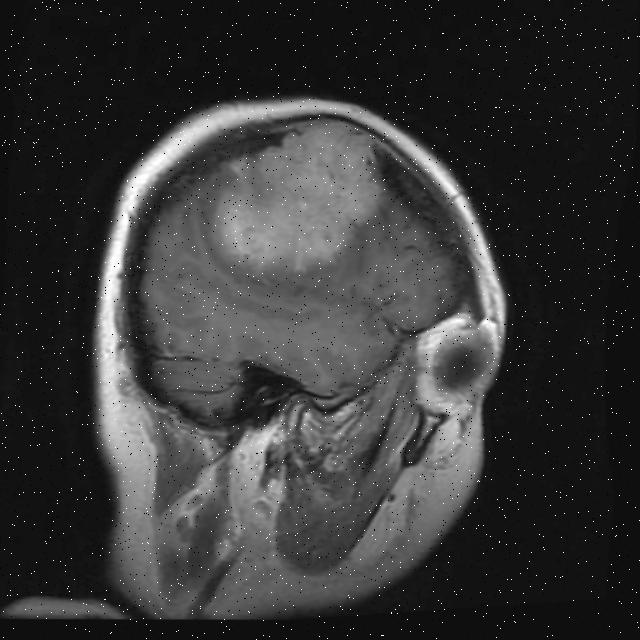Meningioma: (199, 103, 393, 292)
